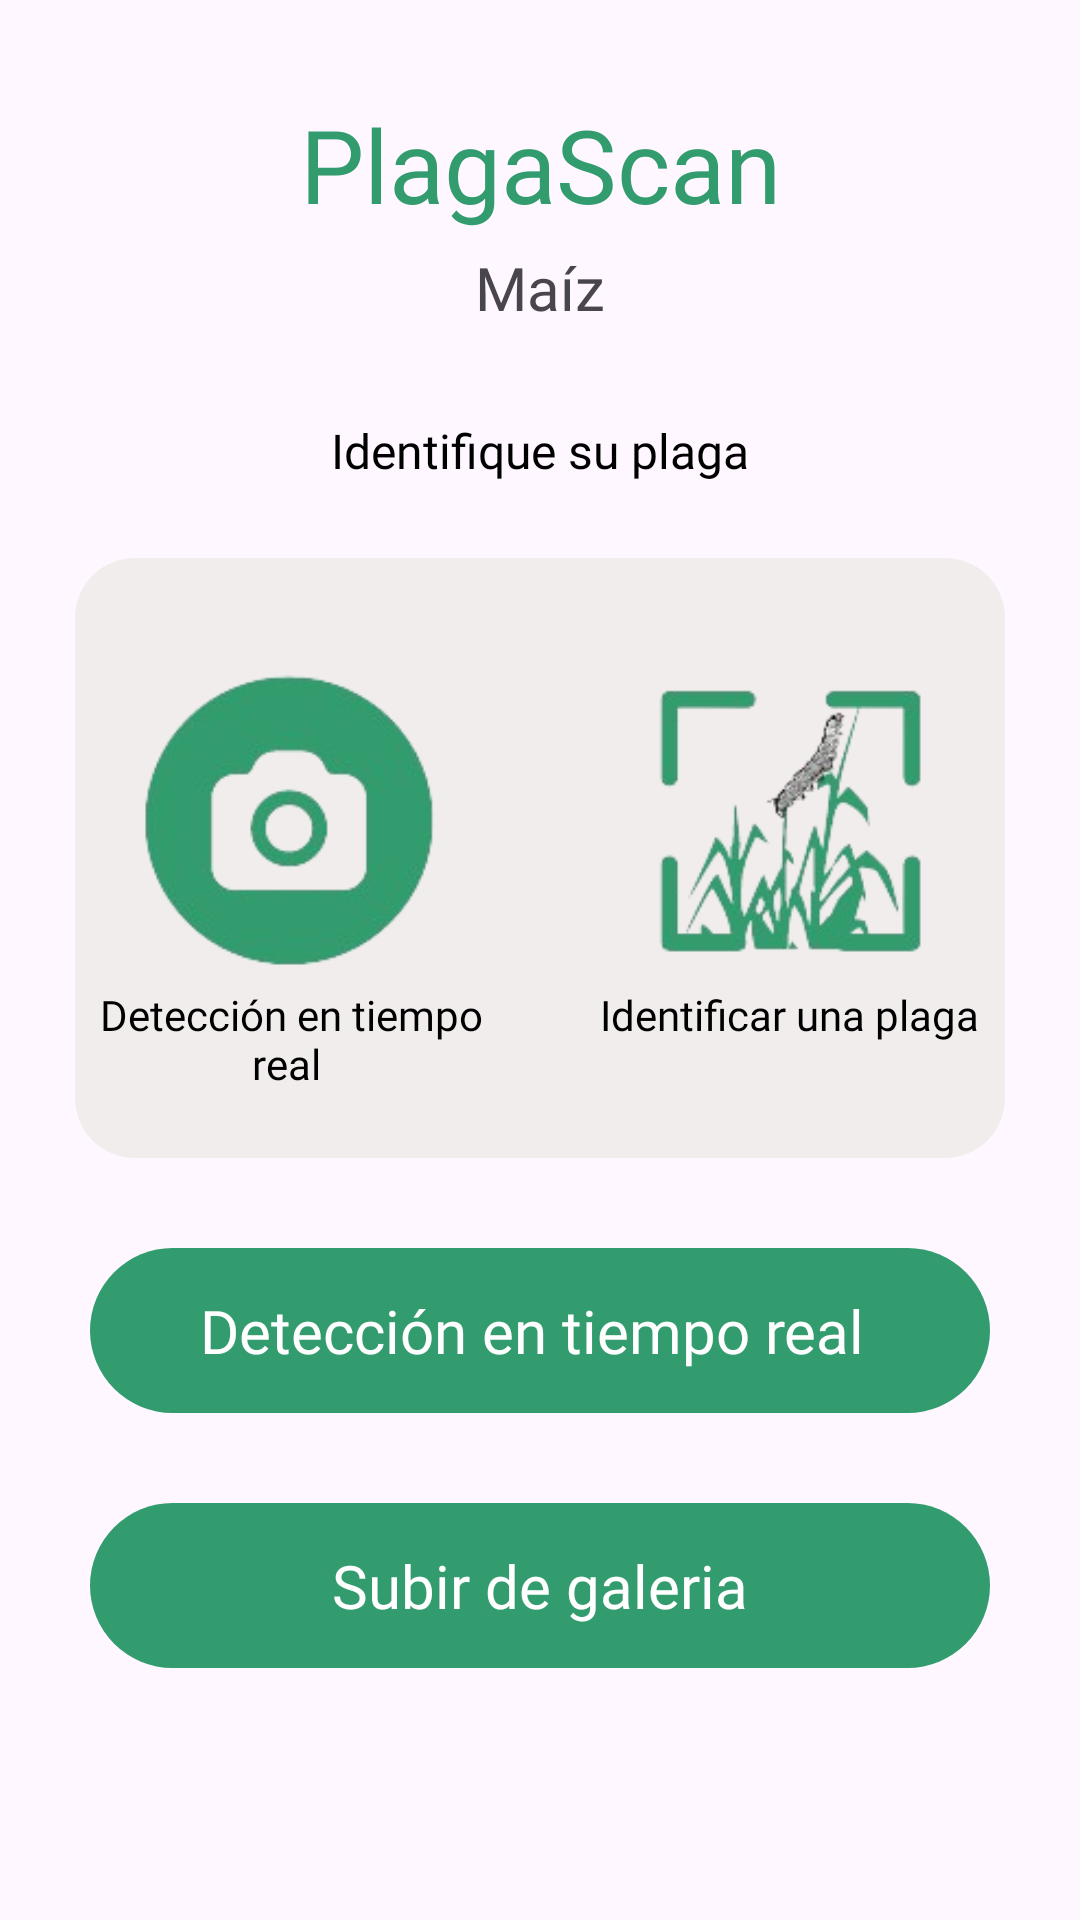

Icons on this 1080 x 1920 Android screen, each with its box as detection(x1, y1, x2, y2):
camera: detection(145, 676, 433, 965)
